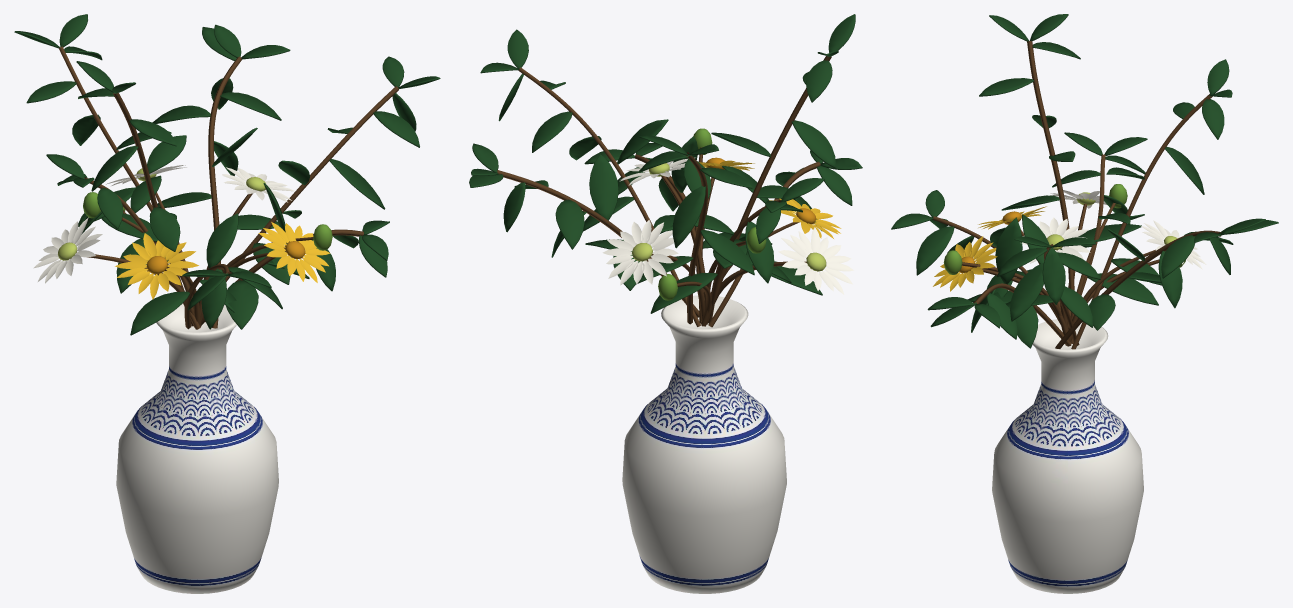
Rendered from shrinevase.glb.
3 renders of one model, left to right at view 1: azimuth 30°, elevation 25°; view 2: azimuth 150°, elevation 25°; view 3: azimuth 270°, elevation 25°, orthographic. The views are drawn at different scales.
Parts seen in each view (by area): view 1: VaseBody, VaseLeaves, VaseStems, VaseMumSmall1, VaseMumSmall3, VaseMumSmall4, VaseMumSmall0; view 2: VaseBody, VaseLeaves, VaseStems, VaseMumSmall2, VaseMumSmall4, VaseMumSmall1; view 3: VaseBody, VaseLeaves, VaseStems, VaseMumSmall3, VaseMumSmall0, VaseMumSmall2.
Part boxes in pixels (bbox=[...]): VaseBody: bbox=[116, 303, 278, 593]; VaseLeaves: bbox=[14, 14, 440, 335]; VaseStems: bbox=[59, 46, 398, 329]; VaseMumSmall1: bbox=[115, 233, 198, 299]; VaseMumSmall3: bbox=[258, 222, 330, 282]; VaseMumSmall4: bbox=[33, 217, 102, 283]; VaseMumSmall0: bbox=[222, 167, 294, 202]; VaseBody: bbox=[622, 295, 786, 593]; VaseLeaves: bbox=[469, 14, 862, 313]; VaseStems: bbox=[497, 56, 831, 327]; VaseMumSmall2: bbox=[602, 220, 678, 285]; VaseMumSmall4: bbox=[778, 227, 853, 294]; VaseMumSmall1: bbox=[769, 198, 841, 238]; VaseBody: bbox=[992, 319, 1143, 593]; VaseLeaves: bbox=[891, 14, 1278, 348]; VaseStems: bbox=[933, 41, 1221, 349]; VaseMumSmall3: bbox=[933, 236, 997, 291]; VaseMumSmall0: bbox=[1021, 217, 1090, 263]; VaseMumSmall2: bbox=[1140, 220, 1206, 269].
Bounding box in the file's own units: 0.1757 × 0.2504 × 0.1733.
Materials: 8 (1 with a texture image).
